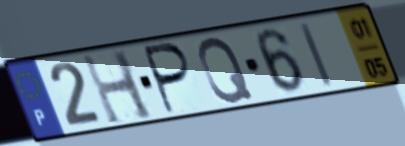2: (48, 60, 107, 131)
6: (254, 25, 308, 96)
H: (78, 48, 158, 129)
I: (296, 19, 337, 90)
P: (142, 40, 195, 117)
Q: (196, 35, 257, 106)
